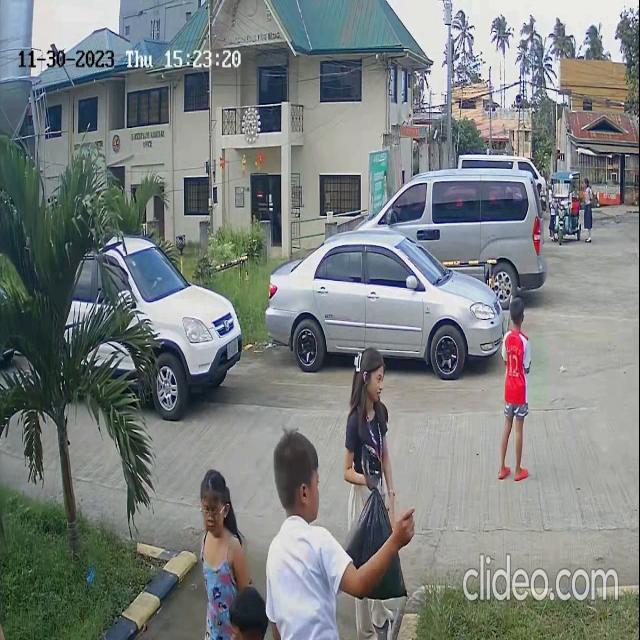garbage: (341, 492, 407, 610)
person: (268, 431, 328, 640), (495, 296, 537, 479), (197, 469, 243, 631), (344, 348, 391, 503)
